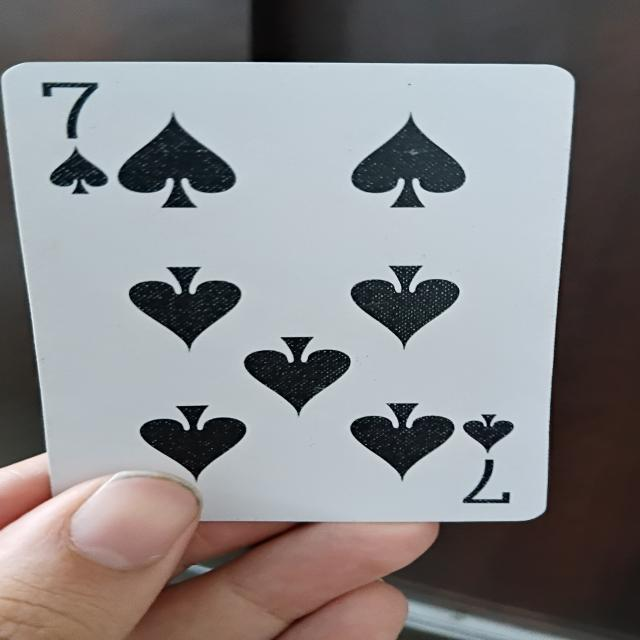7S: (22, 70, 544, 522)
